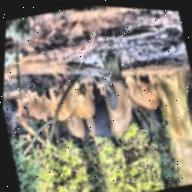boar: (122, 68, 164, 116)
